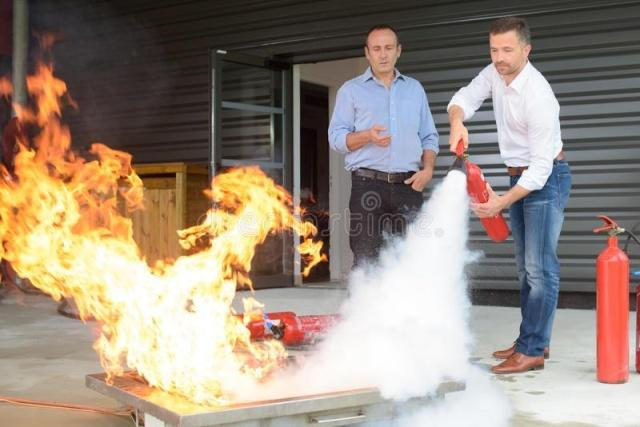APAR: (593, 213, 630, 384), (465, 160, 509, 243)
